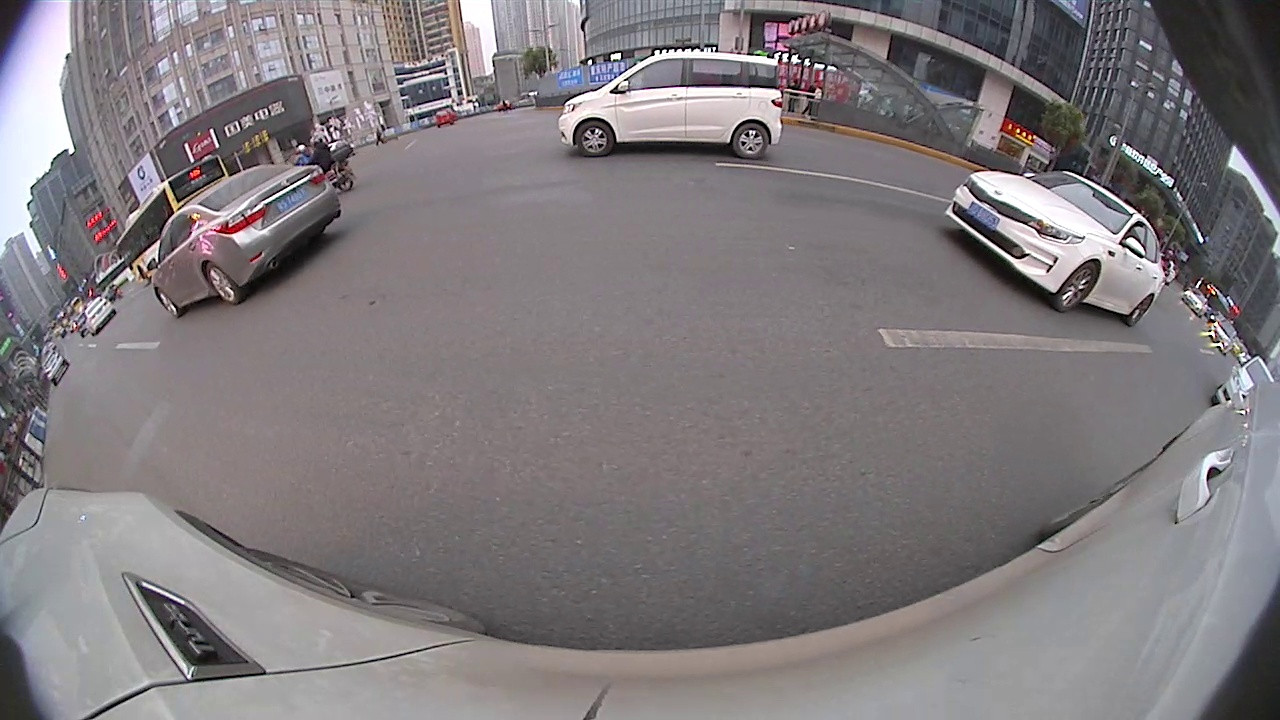bus: (117, 152, 232, 283)
car: (946, 173, 1170, 328), (147, 160, 341, 320), (562, 53, 783, 160), (1212, 356, 1277, 416), (83, 292, 114, 338)
front: (1052, 258, 1099, 315), (572, 119, 615, 159), (154, 286, 182, 320)
rear: (202, 261, 246, 307), (730, 122, 771, 162), (1124, 292, 1154, 329)
rider: (294, 133, 354, 193)
